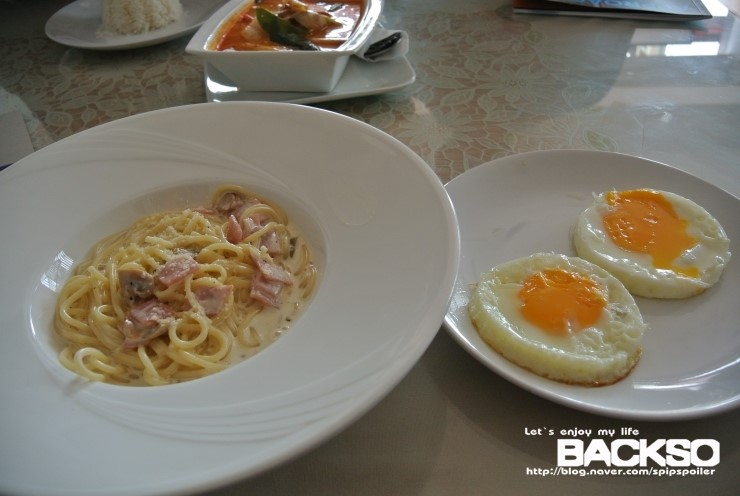fried egg: (488, 240, 634, 373), (590, 199, 721, 294)
plain spaghetti: (75, 210, 271, 349)
